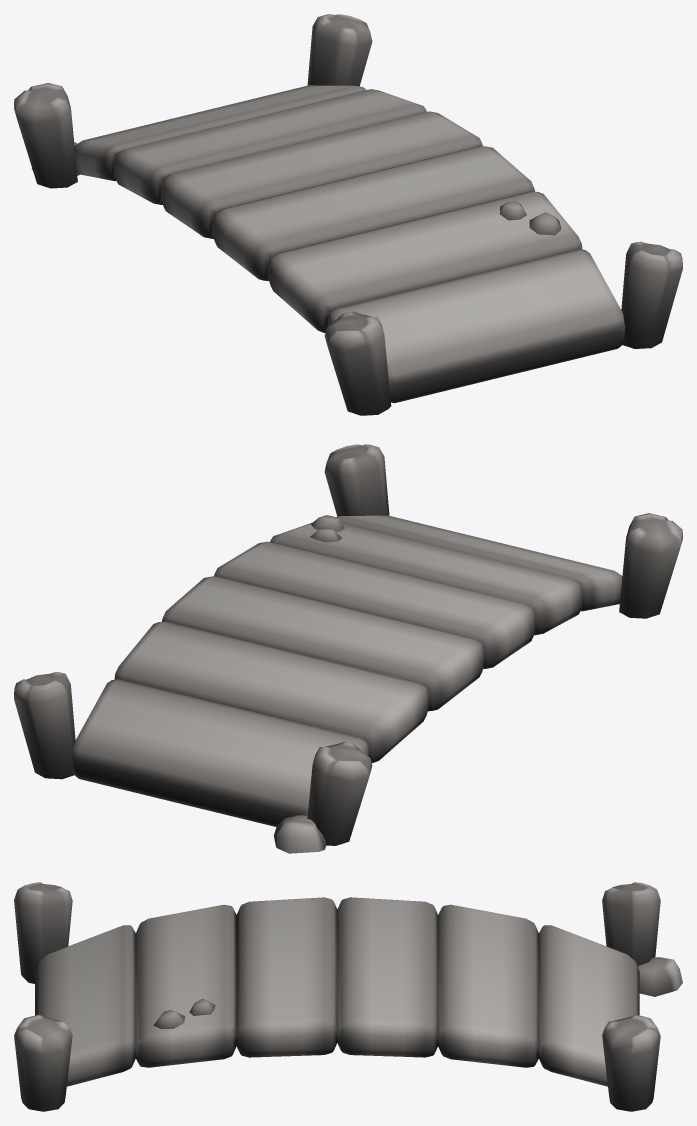
Rendered from m_Bridge01.fbx.
3 views of the same model, one above another, from view 1: azimuth 30°, elevation 25°; view 2: azimuth 150°, elevation 25°; view 3: azimuth 270°, elevation 25° (orthographic). The views are drawn at different scales.
Parts seen in each view (by area): view 1: m_Bridge01; view 2: m_Bridge01; view 3: m_Bridge01.
Boxes of the visible parts, <box> form: m_Bridge01: <box>14,14,682,415</box>; m_Bridge01: <box>14,444,682,853</box>; m_Bridge01: <box>14,882,682,1111</box>.
Size of the model in its own units: 380 by 94.66 by 660.
